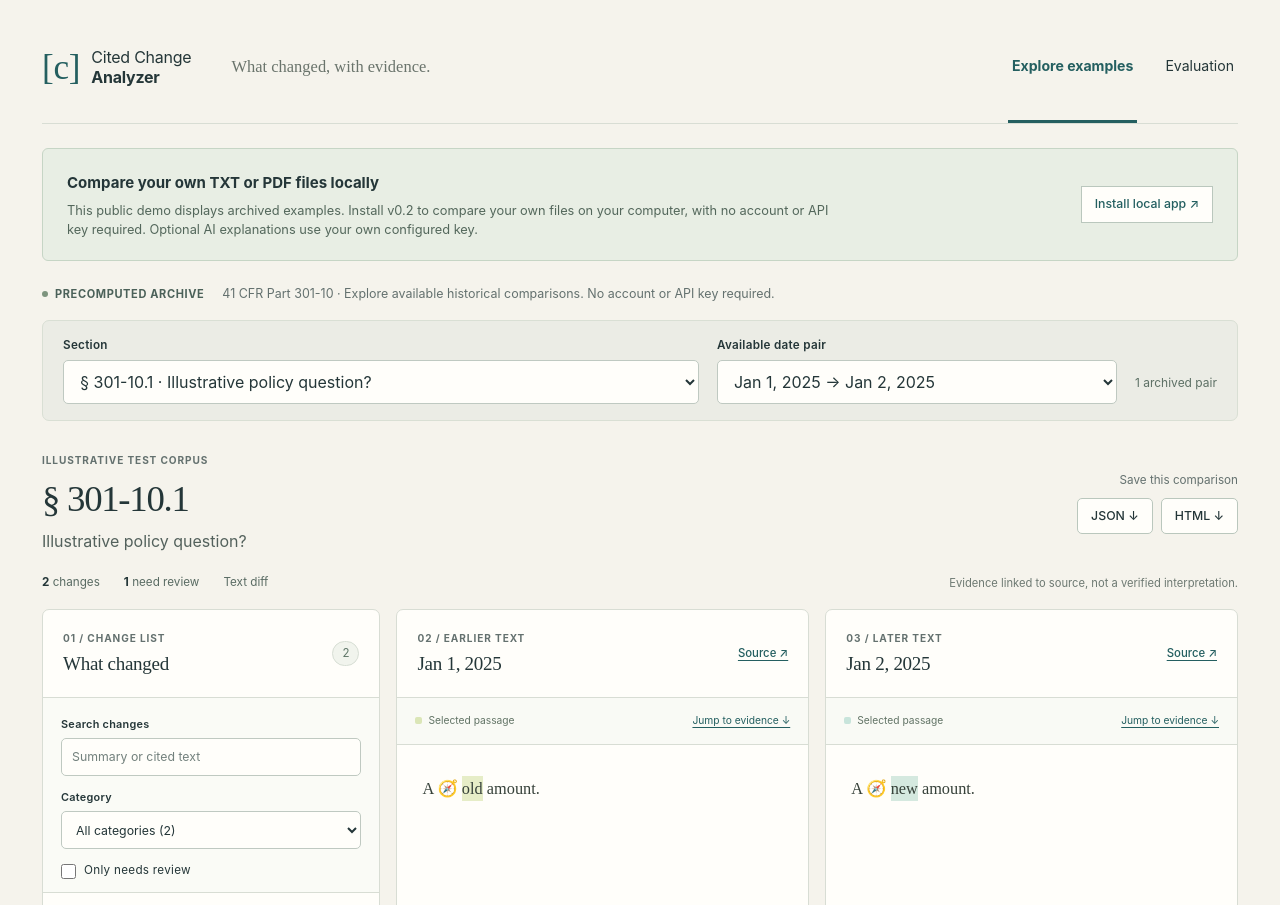
Test case: evaluation truthfulness › shows unavailability rather than demonstration benchmark results
The width and height of the screenshot is (1280, 905).
Click the button "Evaluation". click: {"x": 1200, "y": 68}
box: top-left (1161, 12), bottom-right (1238, 123)
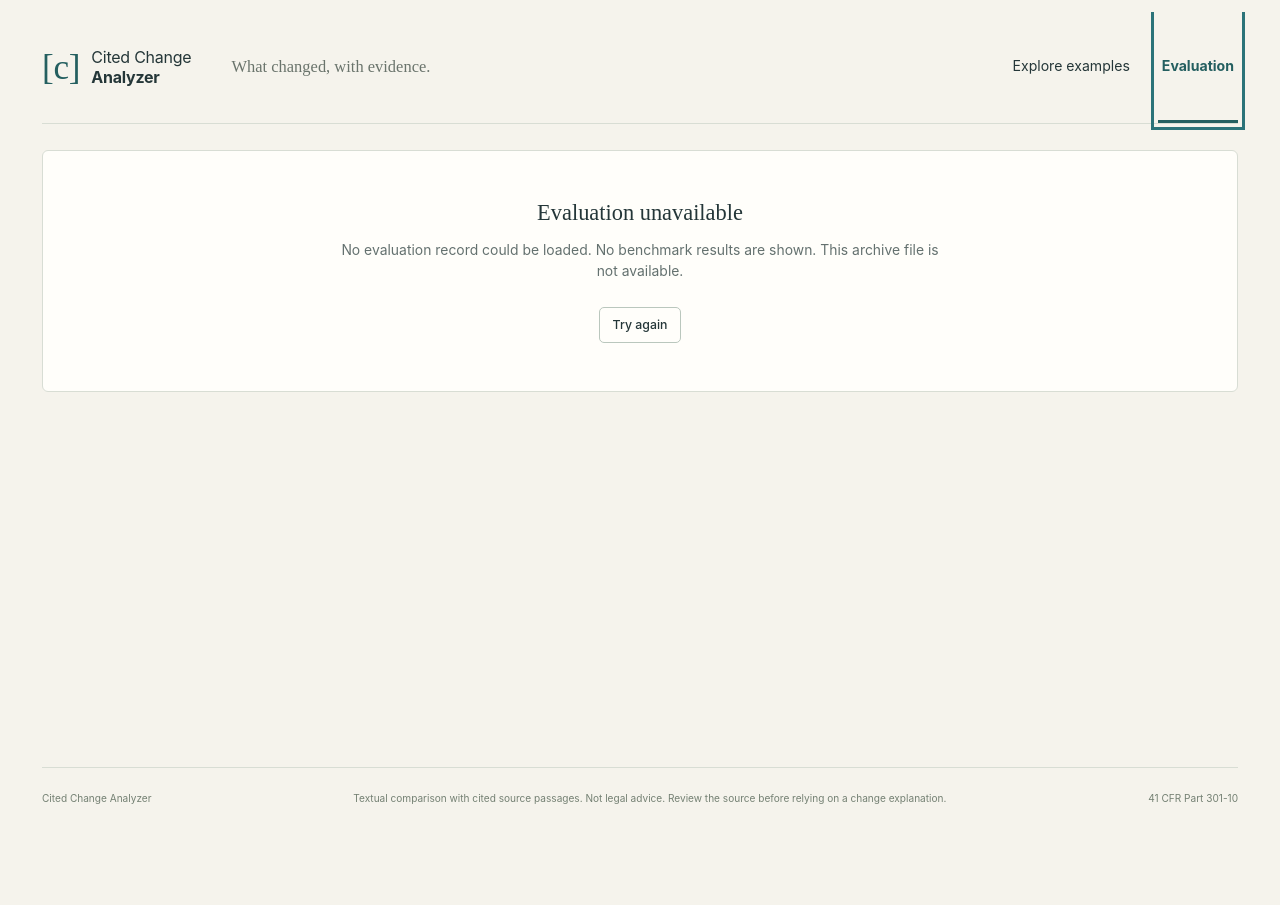
Expected: the heading "Evaluation unavailable" is shown, top-left (537, 200), bottom-right (743, 225)
Expected: the text "No benchmark results are shown" is shown, top-left (341, 242), bottom-right (820, 258)
